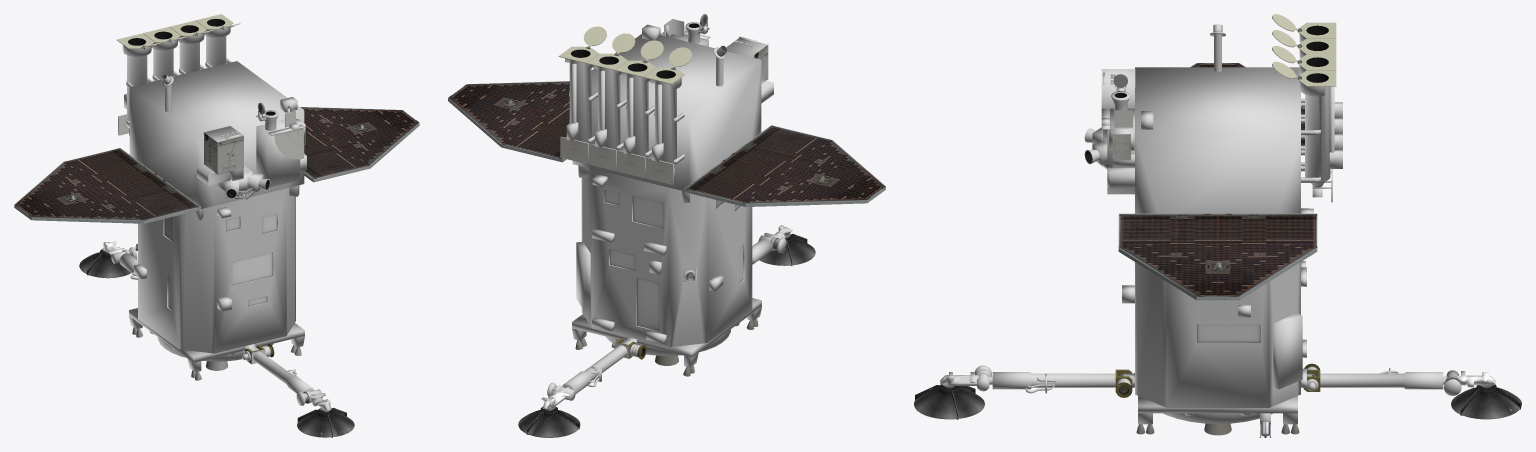
The model's file is sc_sdo.glb.
3 renders of one model, left to right at view 1: azimuth 30°, elevation 25°; view 2: azimuth 150°, elevation 25°; view 3: azimuth 270°, elevation 25°, orthographic. The views are drawn at different scales.
Visible parts, largest first — view 1: BUS, shiny panel, tex_sdo, AO_sdo, HGA_Left, HGA_Arm_Left, HGA_Right, matte black, HGA_Arm_Right; view 2: BUS, shiny panel, tex_sdo, AO_sdo, HGA_Right, HGA_Arm_Right, AIA, HGA_Left, matte black, HGA_Arm_Left; view 3: BUS, shiny panel, tex_sdo, HGA_Arm_Left, HGA_Arm_Right, HGA_Left, HGA_Right, AO_sdo, AIA, matte black.
Boxes of the visible parts, <box> form: BUS: <box>122,27,306,372</box>; shiny panel: <box>14,107,419,223</box>; tex_sdo: <box>117,14,305,380</box>; AO_sdo: <box>135,74,277,309</box>; HGA_Left: <box>297,393,354,437</box>; HGA_Arm_Left: <box>242,344,322,405</box>; HGA_Right: <box>79,241,131,278</box>; matte black: <box>128,19,275,198</box>; HGA_Arm_Right: <box>111,247,137,279</box>; BUS: <box>565,19,773,367</box>; shiny panel: <box>448,81,885,206</box>; tex_sdo: <box>558,19,768,376</box>; AO_sdo: <box>604,45,743,331</box>; HGA_Right: <box>518,390,580,437</box>; HGA_Arm_Right: <box>547,338,646,400</box>; AIA: <box>583,26,692,69</box>; HGA_Left: <box>759,225,815,265</box>; matte black: <box>571,23,699,78</box>; HGA_Arm_Left: <box>696,235,786,280</box>; BUS: <box>1084,32,1342,424</box>; shiny panel: <box>1118,63,1317,300</box>; tex_sdo: <box>1102,22,1336,437</box>; HGA_Arm_Left: <box>974,365,1132,397</box>; HGA_Arm_Right: <box>1303,363,1461,395</box>; HGA_Left: <box>914,372,984,419</box>; HGA_Right: <box>1451,371,1521,419</box>; AO_sdo: <box>1084,24,1260,342</box>; AIA: <box>1272,14,1302,79</box>; matte black: <box>1085,25,1328,437</box>.
Size of the model in its own units: 1.52 by 1.18 by 1.67.
6 materials, 4 textured.
